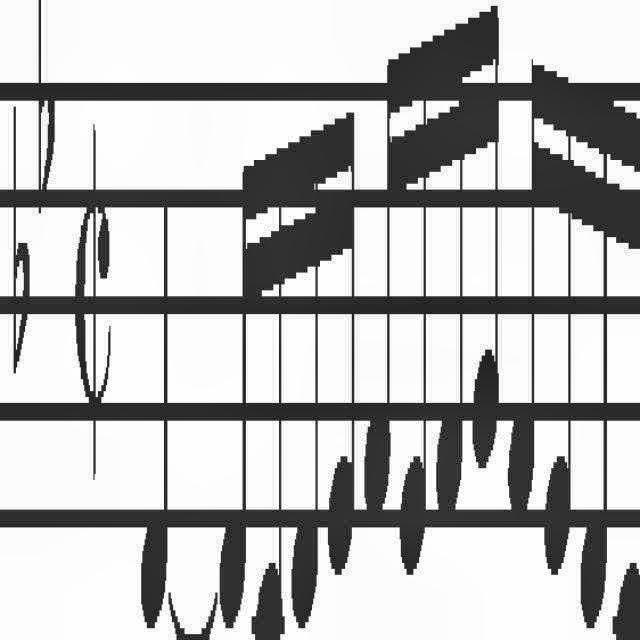Bemol: (11, 95, 31, 388), (35, 1, 55, 220)
Quarter-note: (139, 180, 169, 638)
Sixteenth-note: (578, 47, 609, 640), (399, 10, 429, 582), (433, 0, 466, 520), (288, 110, 320, 634), (542, 33, 572, 591), (324, 88, 356, 600), (252, 130, 284, 640), (611, 95, 640, 640), (218, 144, 250, 636), (362, 38, 394, 524), (508, 42, 540, 528), (470, 0, 500, 468), (639, 95, 640, 640)
